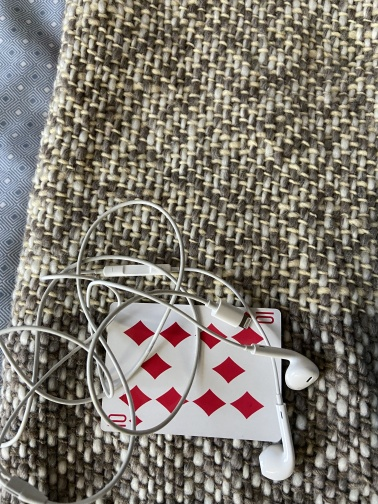ten: (99, 301, 283, 444)
